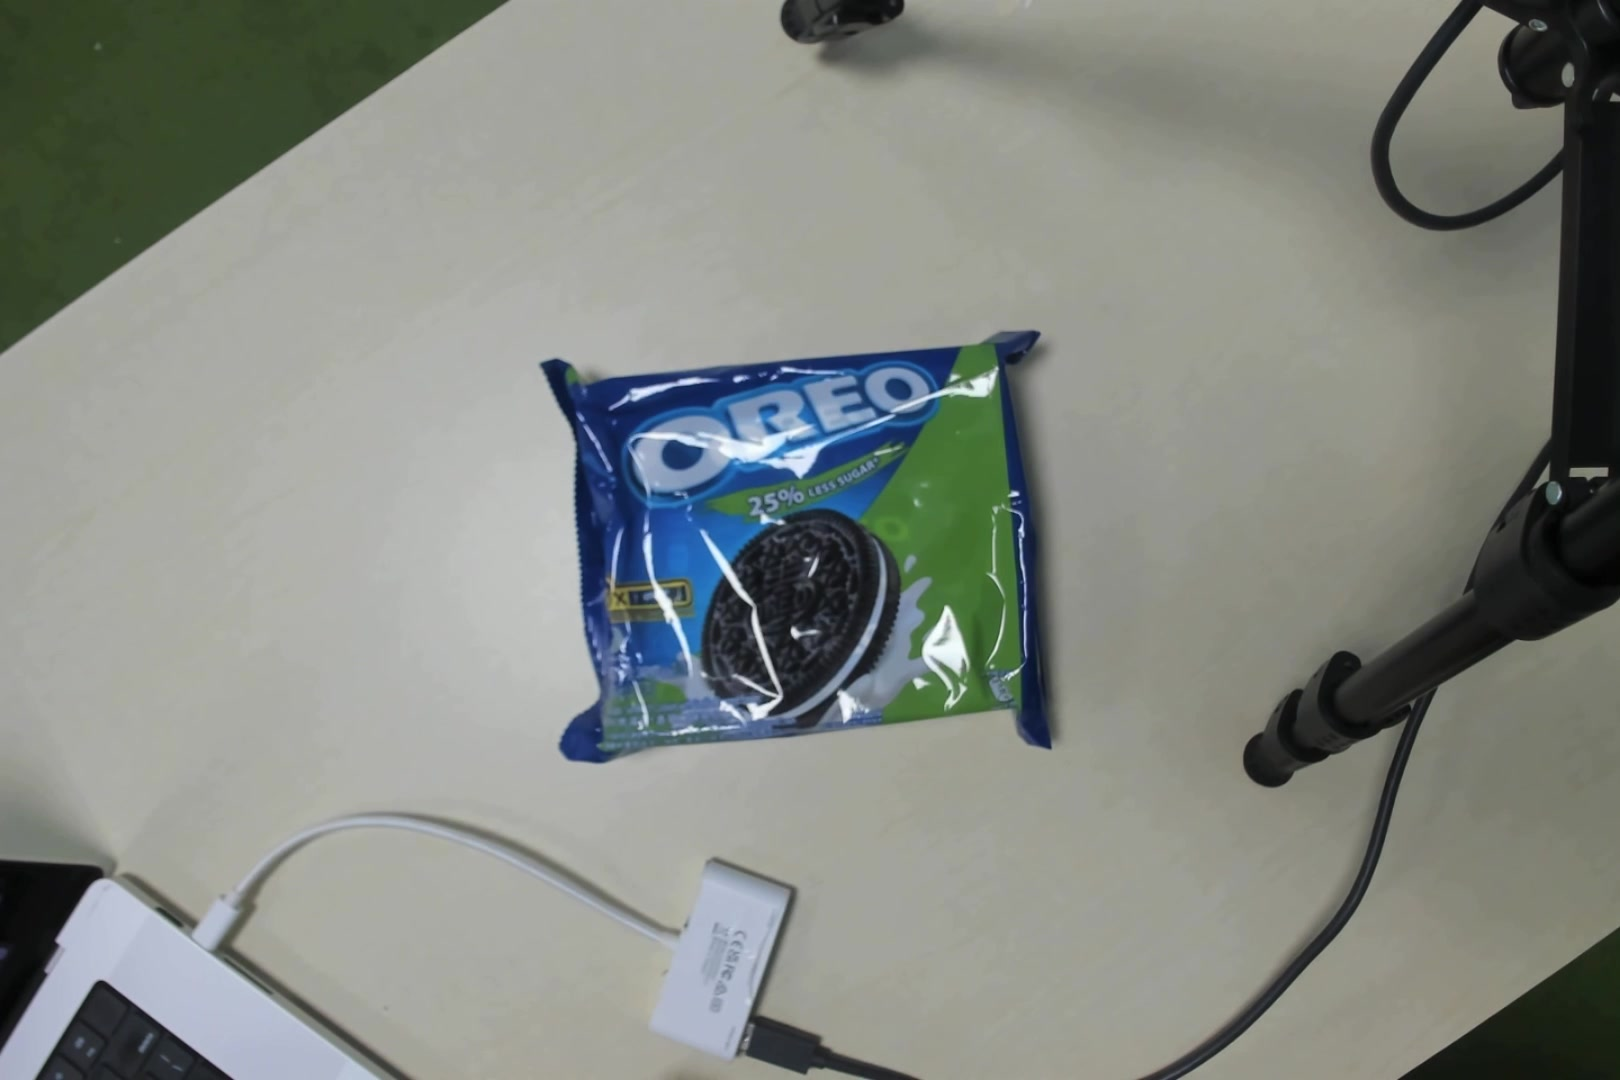SweetsChocolatesOthers_200-299g_Halal_NonHealthy: (522, 354, 1058, 756)
